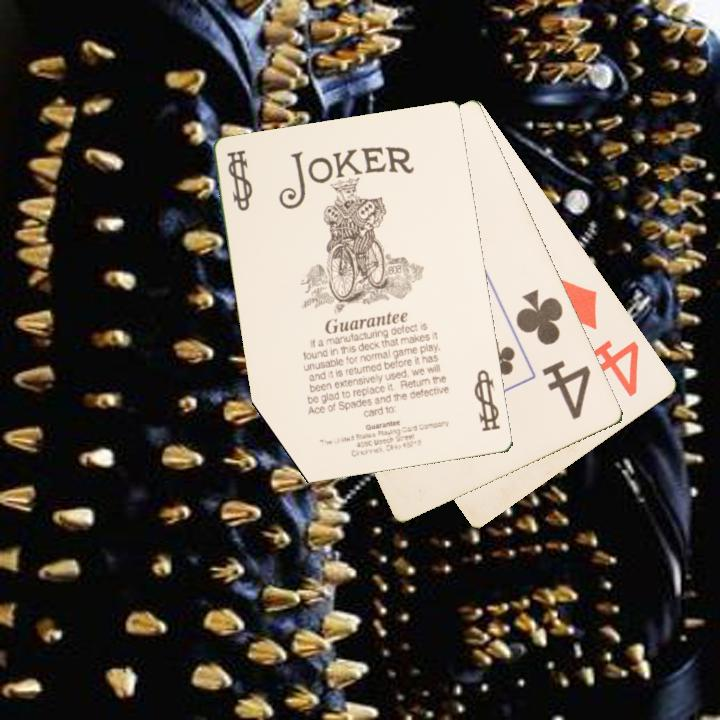4c: (512, 286, 595, 423)
4d: (556, 275, 643, 400)
JK: (223, 146, 257, 214), (471, 366, 503, 435)
